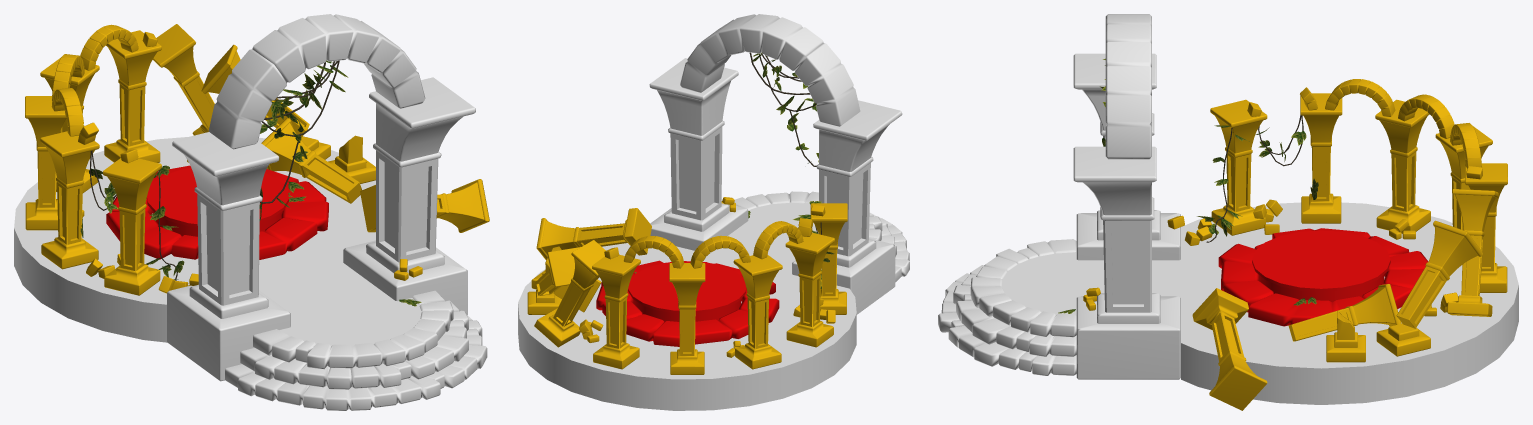
The model's file is ruins.fbx.
3 renders of one model, left to right at view 1: azimuth 30°, elevation 25°; view 2: azimuth 150°, elevation 25°; view 3: azimuth 270°, elevation 25°, orthographic. The views are drawn at different scales.
Visible parts, largest first — view 1: archPillars, smallPillars, stageFloor, stageStepsLarge, arch, stageStepsSmall, stageElevated, vines, arch3, arch2, arch1, arch4; view 2: stageFloor, smallPillars, archPillars, arch, stageElevated, stageStepsSmall, stageStepsLarge, vines, arch3, arch1, arch2, arch4 (+1 smaller); view 3: stageFloor, smallPillars, archPillars, stageStepsLarge, stageElevated, arch, stageStepsSmall, vines, arch2, arch1, arch3, looseBricks4 (+1 smaller).
Boxes of the visible parts, box(x1,y1,x2,y2) form: archPillars: box(167, 77, 475, 381); smallPillars: box(25, 24, 489, 295); stageFloor: box(14, 137, 422, 346); stageStepsLarge: box(225, 290, 487, 410); arch: box(208, 14, 425, 149); stageStepsSmall: box(106, 165, 328, 259); stageElevated: box(146, 168, 288, 236); vines: box(89, 60, 348, 280); arch3: box(80, 24, 138, 70); arch2: box(51, 88, 84, 136); arch1: box(52, 54, 84, 100); arch4: box(78, 122, 138, 163); stageFloor: box(518, 202, 856, 410); smallPillars: box(527, 203, 847, 374); archPillars: box(649, 58, 902, 314); arch: box(680, 14, 860, 126); stageElevated: box(628, 261, 746, 321); stageStepsSmall: box(596, 260, 779, 346); stageStepsLarge: box(734, 191, 909, 282); vines: box(749, 52, 834, 288); arch3: box(623, 236, 684, 268); arch1: box(690, 235, 750, 268); arch2: box(753, 221, 803, 259); arch4: box(798, 205, 825, 236); stageFloor: box(1001, 202, 1518, 404); smallPillars: box(1192, 93, 1507, 410); archPillars: box(1073, 53, 1180, 379); stageStepsLarge: box(938, 239, 1076, 375); stageElevated: box(1252, 230, 1390, 302); arch: box(1105, 14, 1151, 159); stageStepsSmall: box(1218, 228, 1428, 326); vines: box(1100, 58, 1306, 242); arch2: box(1325, 79, 1395, 116); arch1: box(1398, 94, 1454, 138); arch3: box(1450, 123, 1481, 168); looseBricks4: box(1167, 215, 1212, 245).
Bounding box in the file's own units: 14.13 × 10.47 × 18.51.
